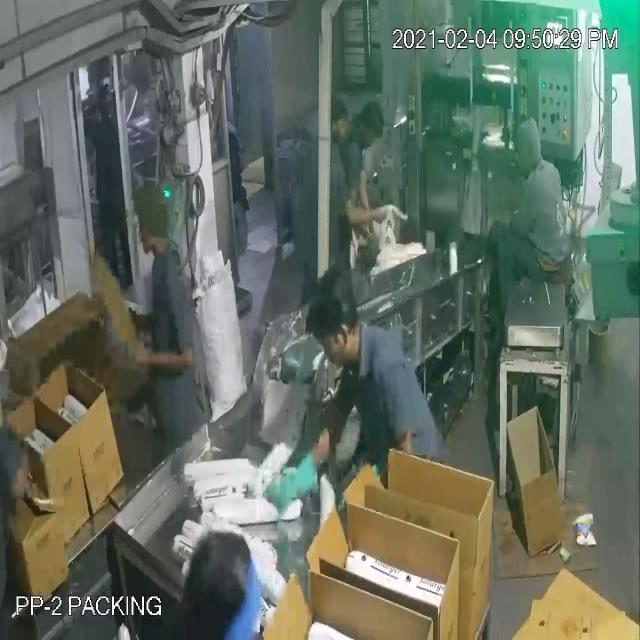No_Gloves: (56, 36, 371, 490)
